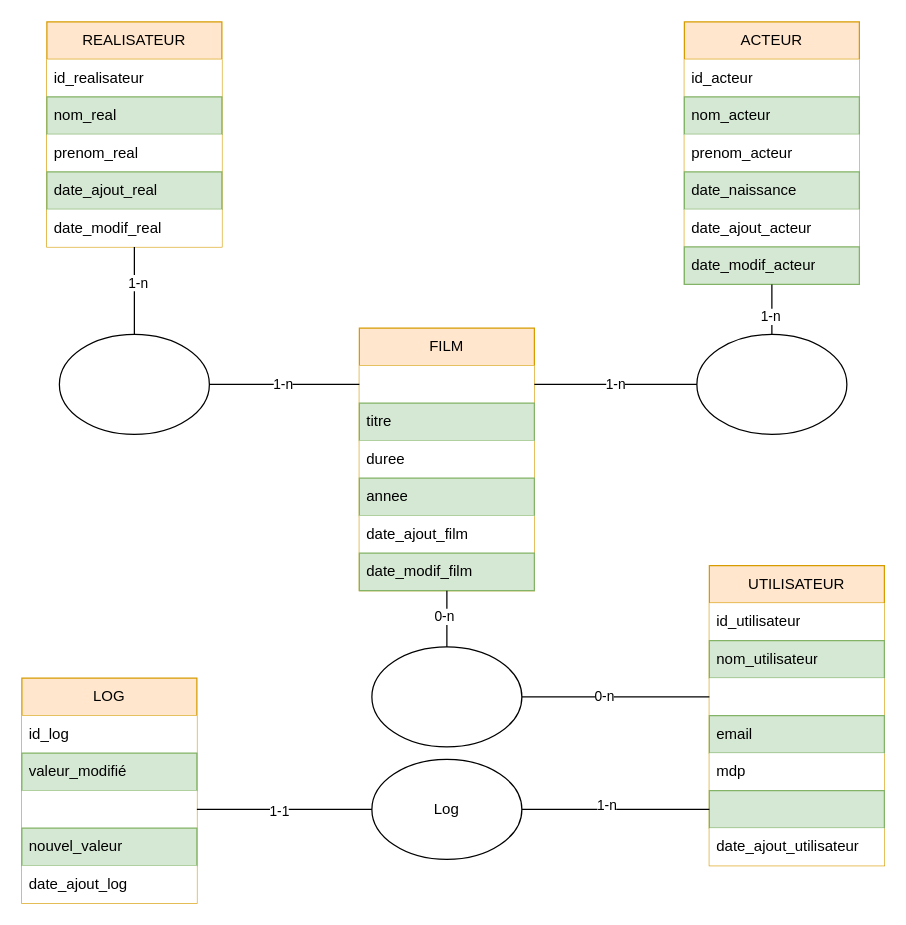
The diagram is 906 pixels wide and 925 high, and some of its shapes have lost their labels. The shapes that lost their labels are listed below. From the top down, each one's box as (x1, y1, x2, y2) in pixels, then its label:
(58, 333, 209, 434): Réalise
(359, 365, 534, 402): id_film
(696, 333, 847, 434): Joue -role
(371, 646, 522, 747): Aime
(709, 678, 884, 715): prenom_utilisateur
(21, 790, 196, 828): ancienne_valeur
(708, 789, 884, 828): role_utilisateur
